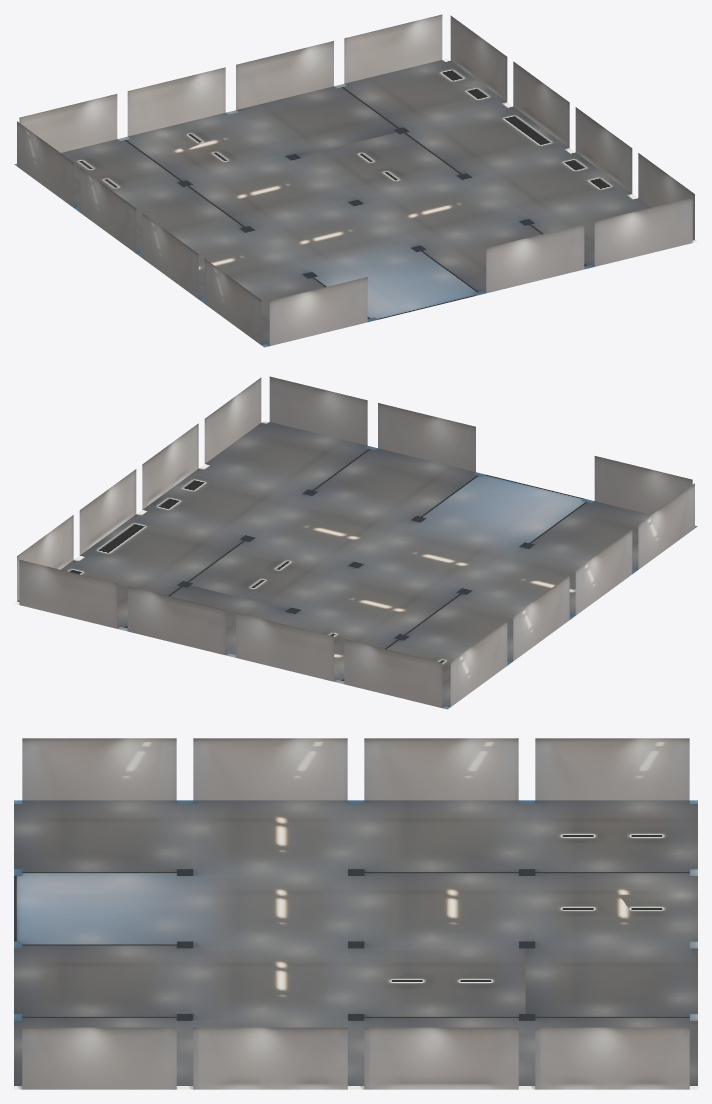
Rendered from floor.glb.
3 views of the same model, one above another, from view 1: azimuth 30°, elevation 25°; view 2: azimuth 150°, elevation 25°; view 3: azimuth 270°, elevation 25° (orthographic). The views are drawn at different scales.
Visible parts, largest first — view 1: floor; view 2: floor; view 3: floor.
Part boxes in pixels (x1=…): floor: x1=14, y1=14, x2=697, y2=347; floor: x1=14, y1=376, x2=697, y2=709; floor: x1=14, y1=738, x2=697, y2=1089.
Size of the model in its own units: 50 by 5 by 50.
1 material, 1 textured.
